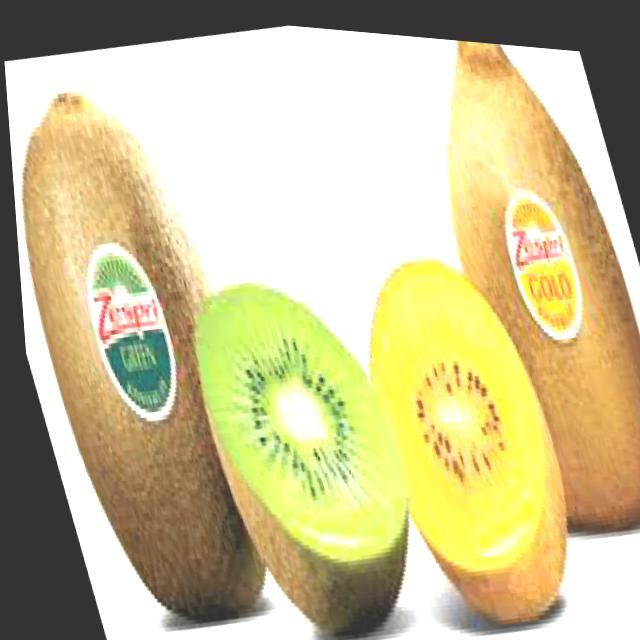kiwi: (4, 59, 302, 640), (391, 28, 640, 549)
